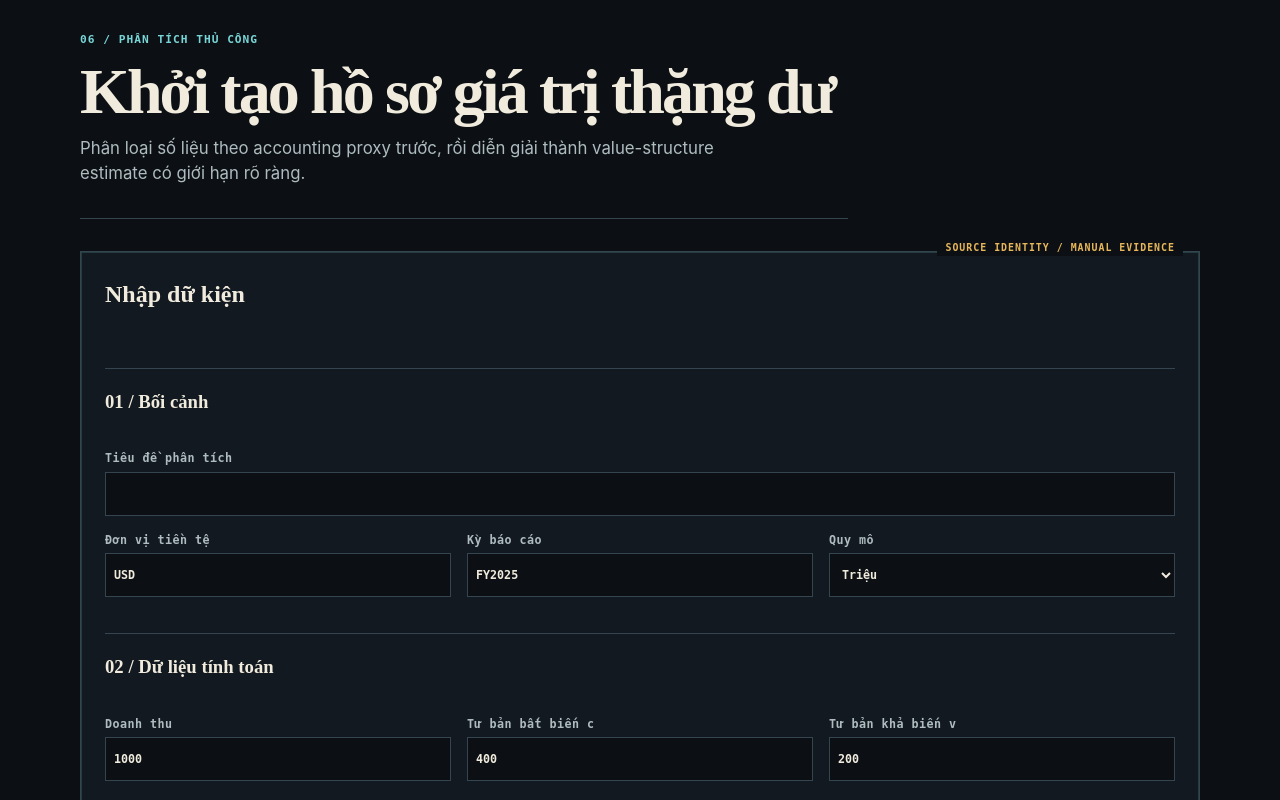
Test case: ScannerPage › retries an idempotent reclassification followed by failed recalculation
The image size is (1280, 800).
Type "Cloud Platform 2025" into the field labelled "Tiêu đề phân tích" at (640, 494), box [105,472,1175,516]
(page scrolled)
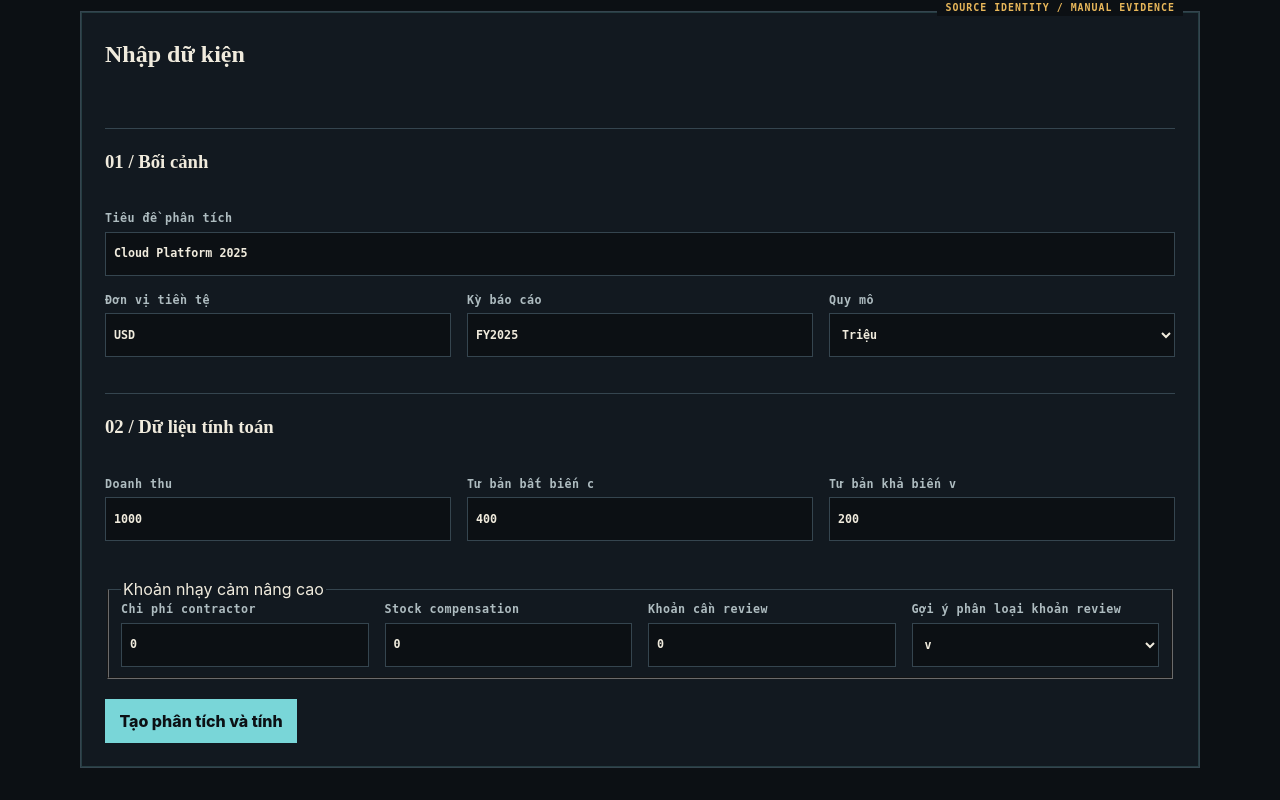
Click the button "Tạo phân tích và tính" at (201, 721), box [105,699,297,743]
(page scrolled)
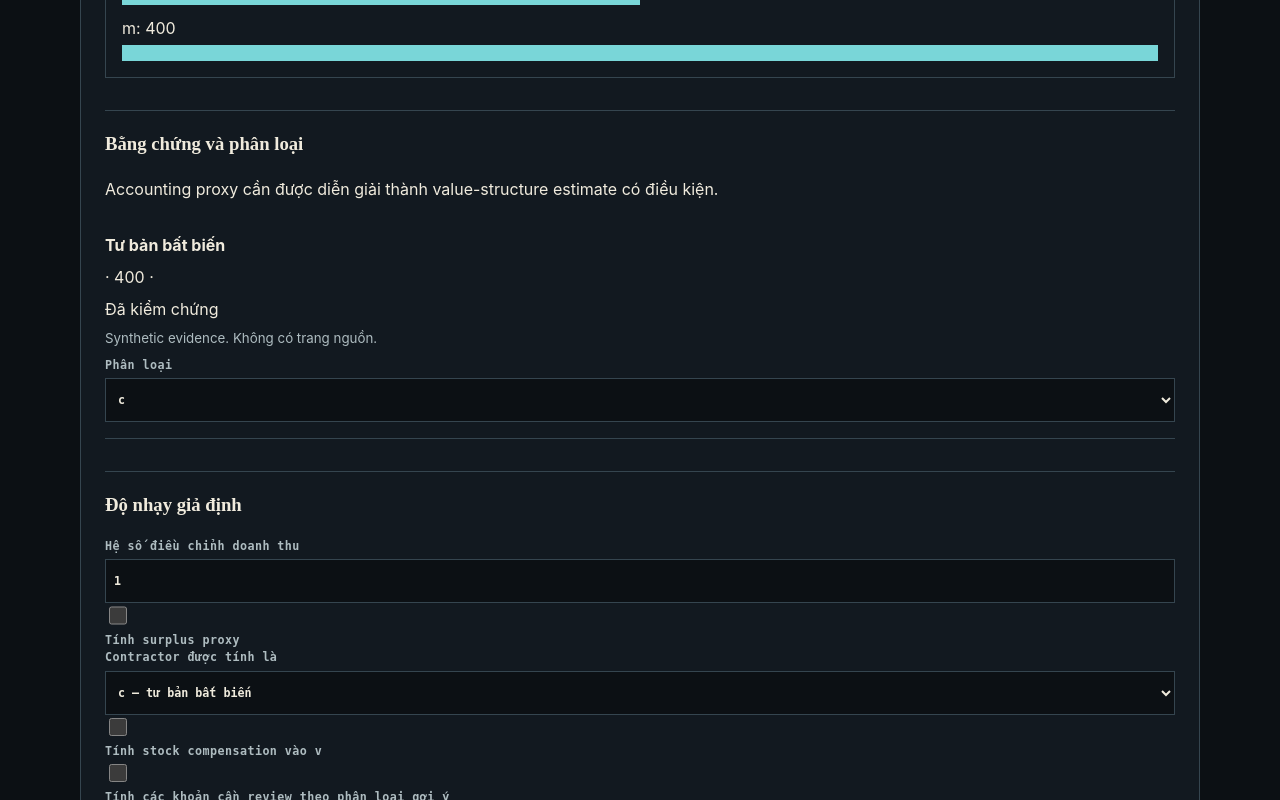
Select "v" in the dropdown named "Phân loại fact Tư bản bất biến" at (640, 400), box [105,378,1175,422]
(page scrolled)
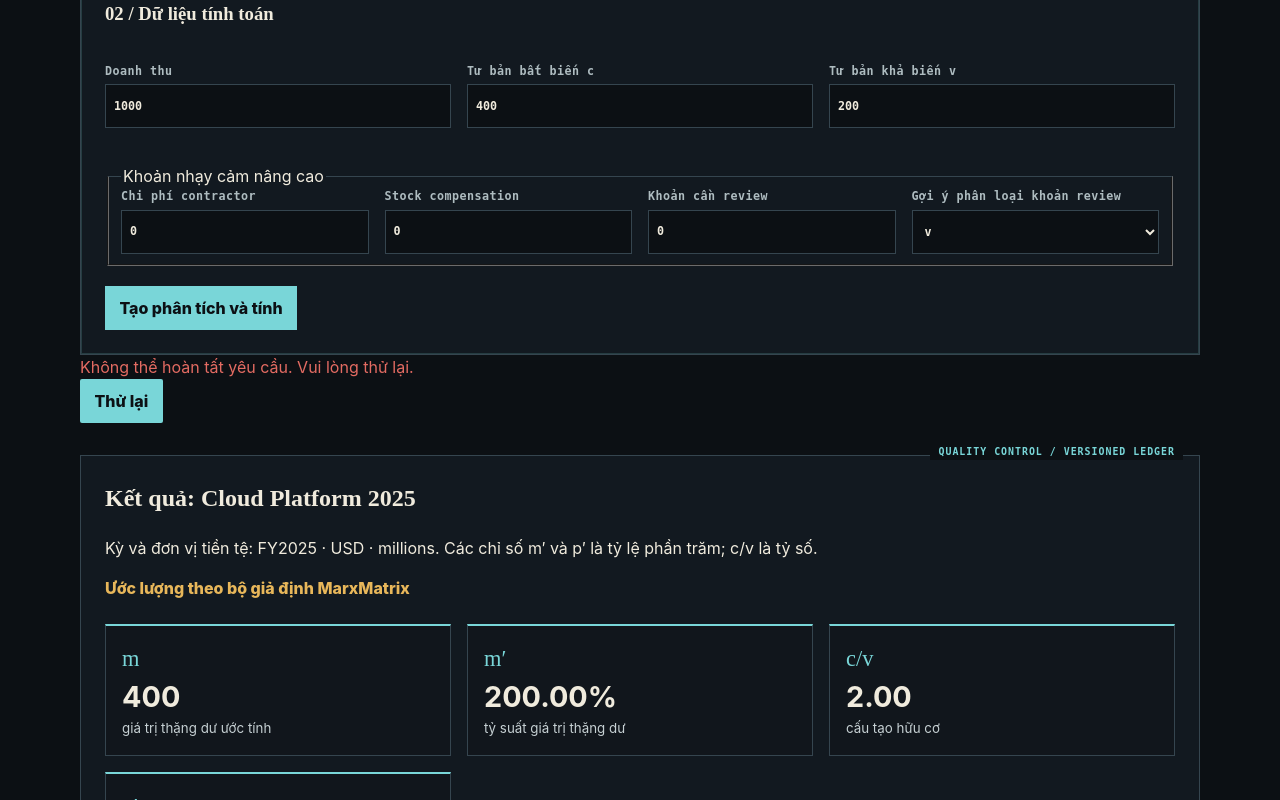
Now the message shows "Không thể hoàn tất", box [80,357,414,377]
Click the button "Thử lại" at (121, 401), box [80,379,163,423]
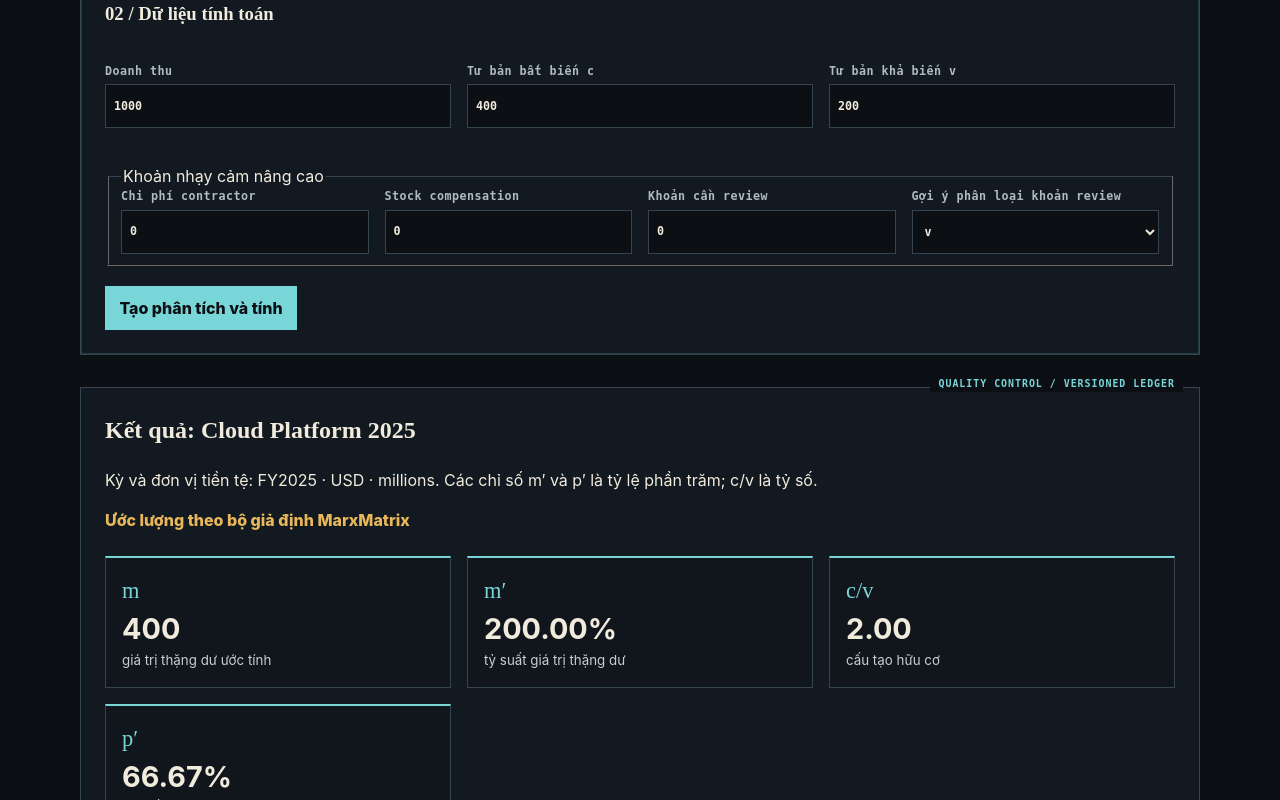
Now the message "Không thể hoàn tất yêu cầu. Vui lòng thử lại." is gone
